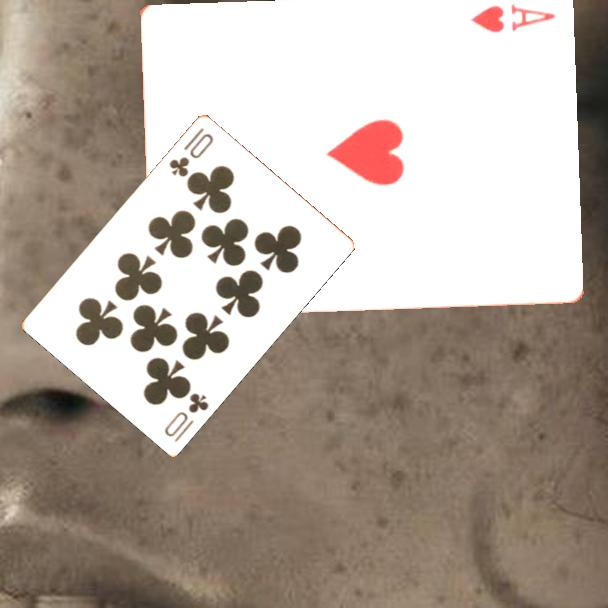c10: (161, 389, 212, 445), (166, 124, 216, 180)
h01: (467, 1, 558, 36)
